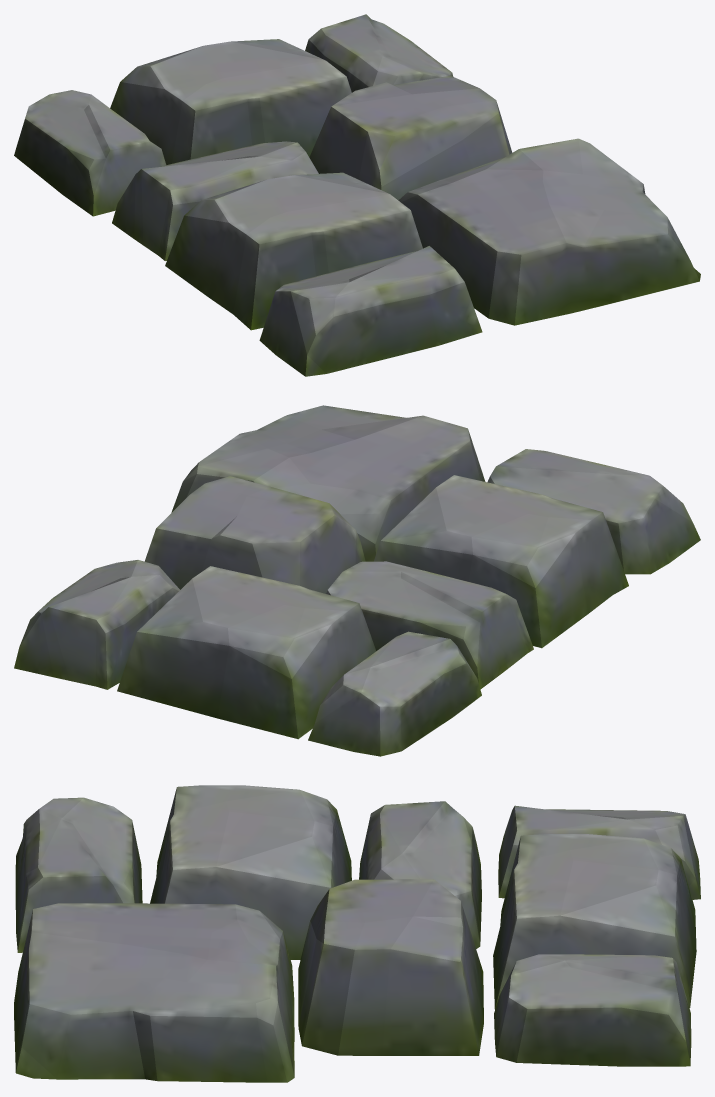
File: sn_rock_path_square_small_3.glb
3 views of the same model, one above another, from view 1: azimuth 30°, elevation 25°; view 2: azimuth 150°, elevation 25°; view 3: azimuth 270°, elevation 25° (orthographic). The views are drawn at different scales.
Parts seen in each view (by area): view 1: RockPath_Square_Small_3; view 2: RockPath_Square_Small_3; view 3: RockPath_Square_Small_3.
Part boxes in pixels (<box>): RockPath_Square_Small_3: <box>14,14,700,376</box>; RockPath_Square_Small_3: <box>14,405,700,756</box>; RockPath_Square_Small_3: <box>14,785,700,1082</box>.
Bounding box in the file's own units: 0.8359 × 0.1736 × 1.08.
1 material, 1 textured.
